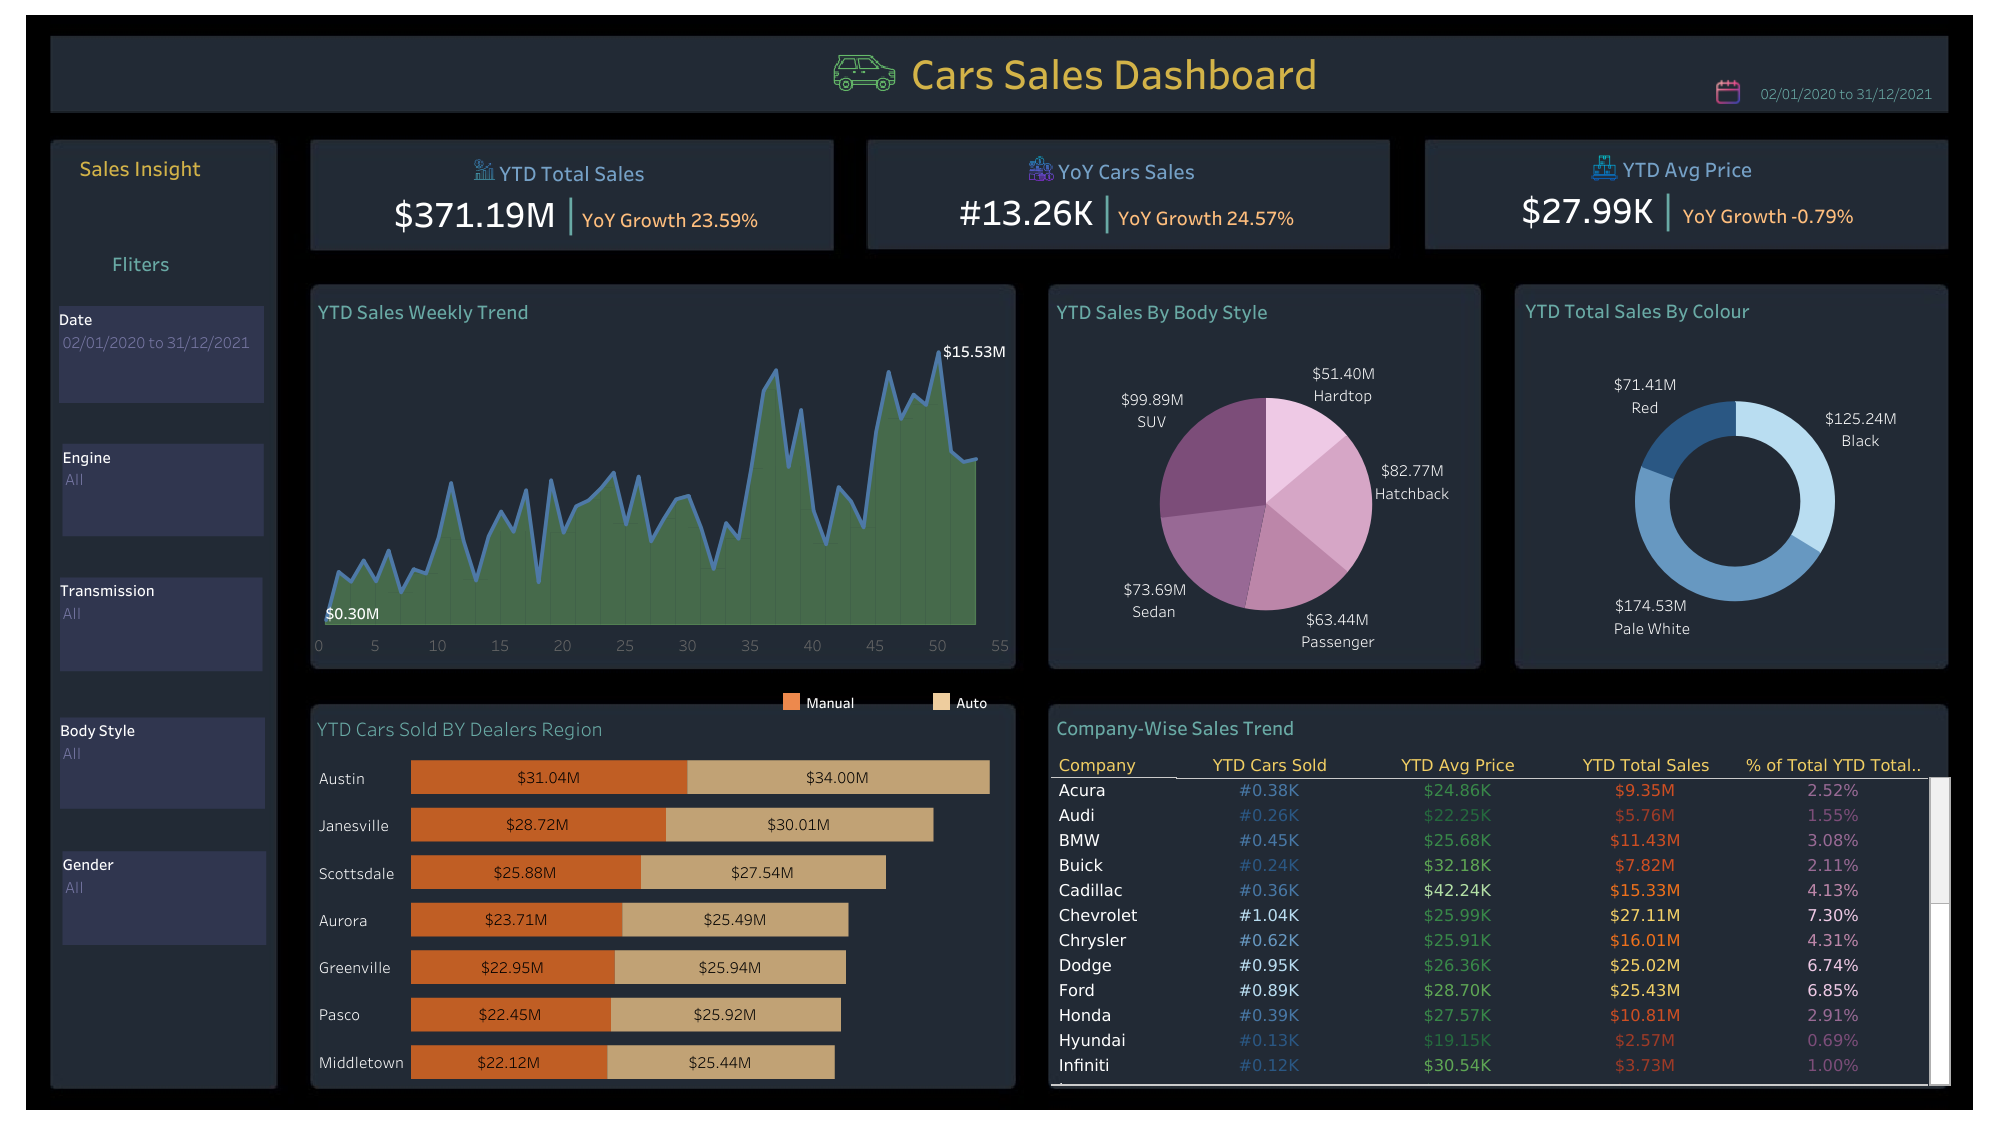

This screenshot's page, from the dashboard's own definition file:
{"tool":"tableau","page":{"name":"Dashboard 1","canvas":[1600,900],"ordinal":0},"visuals":[{"type":"image","param":"Image/Car Sales Background.jpg","box":[8,8,1584,884]},{"type":"text","box":[653,29,477,58]},{"type":"image","param":"Image/Car Icon.png","box":[662,29,86,59]},{"type":"worksheet","title":"Date Range","mark":"Automatic","box":[1398,56,158,38]},{"type":"image","param":"Image/calendar.png","box":[1372,63,22,21]},{"type":"worksheet","title":"YTD Avg Price","mark":"Automatic","box":[1140,111,421,88]},{"type":"worksheet","title":"YoY Cars Sales","mark":"Automatic","box":[691,113,421,88]},{"type":"worksheet","title":"YTD Total Sales","mark":"Automatic","box":[251,114,414,87]},{"type":"text","box":[61,118,144,32]},{"type":"image","param":"Image/Avg Price Icon.png","box":[1273,124,24,21]},{"type":"image","param":"Image/Cars Sold Icon.png","box":[823,125,22,20]},{"type":"image","param":"Image/Sales Icon.png","box":[378,126,19,25]},{"type":"text","box":[87,195,96,31]},{"type":"worksheet","title":"YTD Total Sales By Colour","mark":"Pie","rows":["Calculation_1514616851277291530","Calculation_1514616851277291530"],"box":[1216,231,344,303]},{"type":"worksheet","title":"YTD Sales Weekly Trend","mark":"Automatic","rows":["Calculation_1514616851223592960","Calculation_1514616851223592960"],"cols":["Date"],"box":[250,232,560,302]},{"type":"worksheet","title":"YTD Sales By Body Style ","mark":"Pie","box":[841,232,344,306]},{"type":"filter","title":"YTD Sales Weekly Trend","param":"[federated.0xzgoxm0dutme91ctgyn11rfau5w].[none:Date:qk]","box":[47,245,164,77]},{"type":"filter","title":"YTD Sales Weekly Trend","param":"[federated.0xzgoxm0dutme91ctgyn11rfau5w].[none:Engine:nk]","box":[50,355,161,74]},{"type":"filter","title":"YTD Sales Weekly Trend","param":"[federated.0xzgoxm0dutme91ctgyn11rfau5w].[none:Transmission:nk]","box":[48,462,162,75]},{"type":"legend","title":"YTD Cars Sold BY Dealers Region","param":"[federated.0xzgoxm0dutme91ctgyn11rfau5w].[none:Transmission:nk]","box":[622.8,551,279.1,45.5]},{"type":"worksheet","title":"Company-Wise Sales Trend ","mark":"Automatic","rows":["Company"],"box":[841,565,720,304]},{"type":"worksheet","title":"YTD Cars Sold BY Dealers Region","mark":"Automatic","rows":["Dealer_Region"],"cols":["Calculation_1514616851223592960"],"box":[249,566,566,302]},{"type":"filter","title":"YTD Sales Weekly Trend","param":"[federated.0xzgoxm0dutme91ctgyn11rfau5w].[none:Body Style:nk]","box":[48,574,164,73]},{"type":"filter","title":"YTD Sales Weekly Trend","param":"[federated.0xzgoxm0dutme91ctgyn11rfau5w].[none:Gender:nk]","box":[50,681,163,75]}]}

Visuals, with their boxes in screenshot pixels (x1, y1, x2, y2), scaled from the page's 1600x900 canvas onto the 1999x1124 screenshot:
image: region(10, 10, 1989, 1114)
text: region(816, 36, 1412, 109)
image: region(827, 36, 935, 110)
"Date Range" worksheet: region(1747, 70, 1944, 117)
image: region(1714, 79, 1742, 105)
"YTD Avg Price" worksheet: region(1424, 139, 1950, 249)
"YoY Cars Sales" worksheet: region(863, 141, 1389, 251)
"YTD Total Sales" worksheet: region(314, 142, 831, 251)
text: region(76, 147, 256, 187)
image: region(1590, 155, 1620, 181)
image: region(1028, 156, 1056, 181)
image: region(472, 157, 496, 189)
text: region(109, 244, 229, 282)
"YTD Total Sales By Colour" worksheet (Pie marks): region(1519, 288, 1949, 667)
"YTD Sales Weekly Trend" worksheet: region(312, 290, 1012, 667)
"YTD Sales By Body Style " worksheet (Pie marks): region(1051, 290, 1481, 672)
"YTD Sales Weekly Trend" filter: region(59, 306, 264, 402)
"YTD Sales Weekly Trend" filter: region(62, 443, 264, 536)
"YTD Sales Weekly Trend" filter: region(60, 577, 262, 671)
"YTD Cars Sold BY Dealers Region" legend: region(778, 688, 1127, 745)
"Company-Wise Sales Trend " worksheet: region(1051, 706, 1950, 1085)
"YTD Cars Sold BY Dealers Region" worksheet: region(311, 707, 1018, 1084)
"YTD Sales Weekly Trend" filter: region(60, 717, 265, 808)
"YTD Sales Weekly Trend" filter: region(62, 850, 266, 944)
